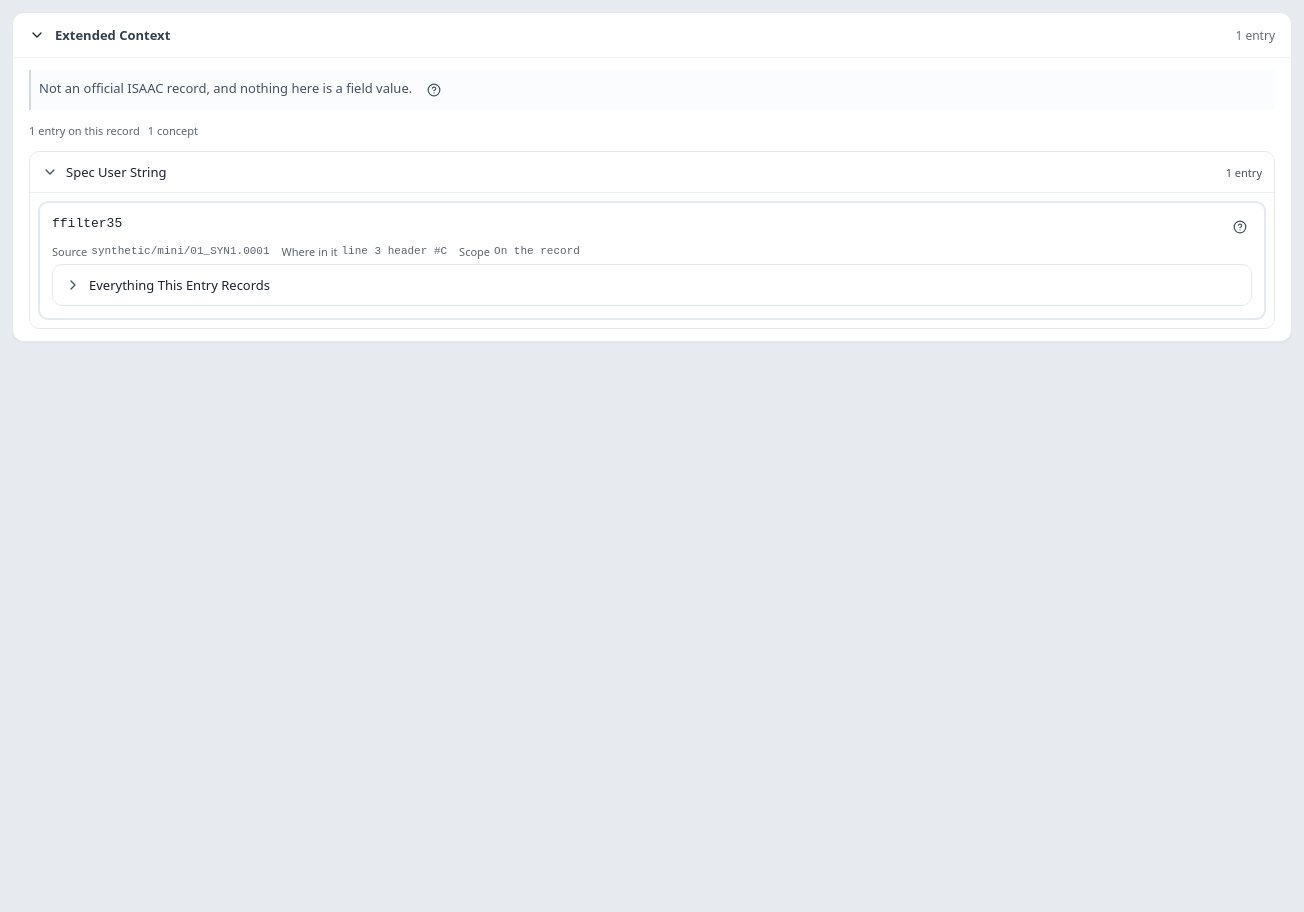
raw JSON › is behind a CLOSED shared Disclosure and is not the scientist’s first reading
Expected: the text "Spec User String" is shown, [66,163,166,181]
Click the button "Everything This Entry Records" at (180, 285), box [53,265,1251,305]
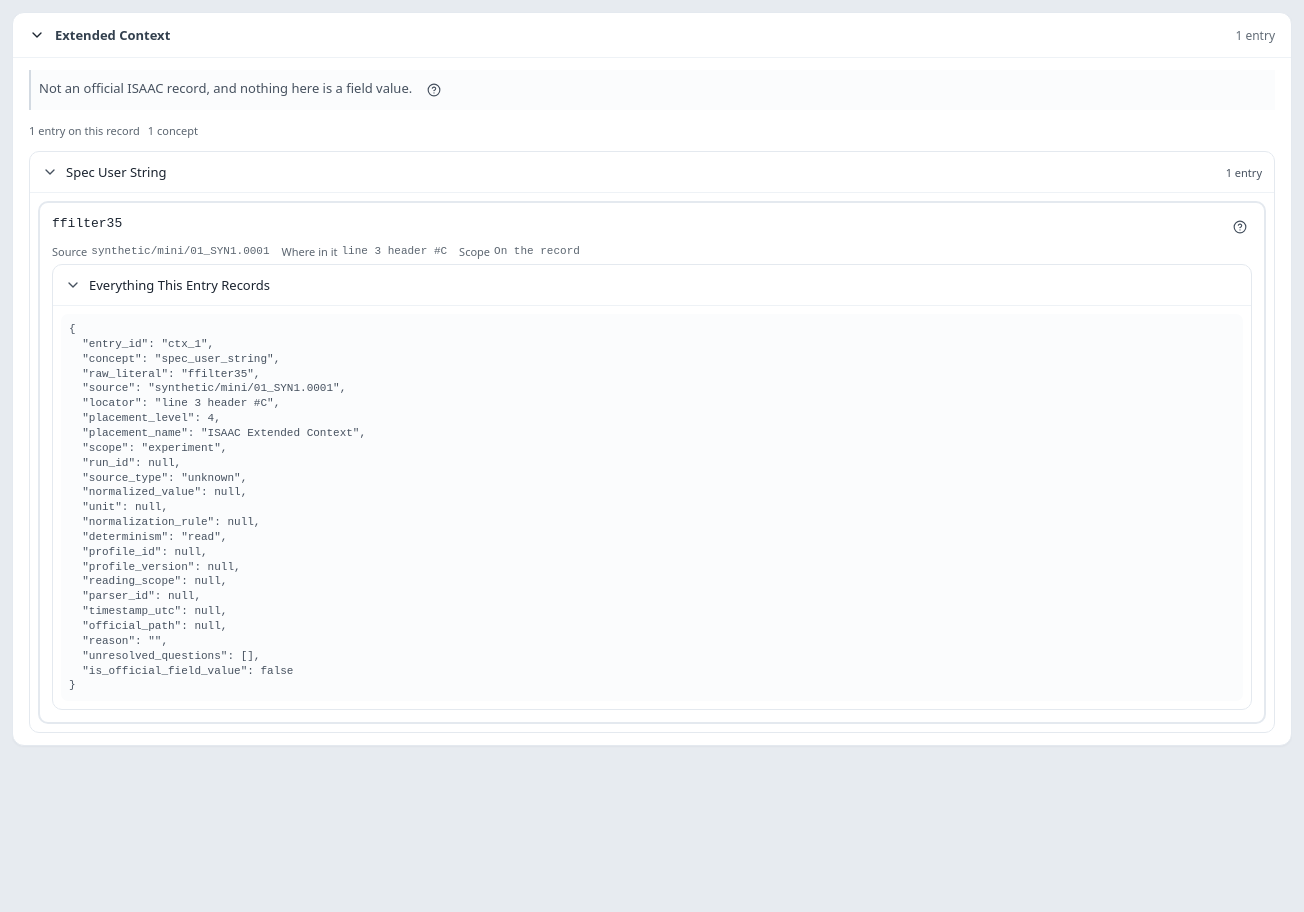
Result: the text with class "extctx-raw" is shown at [61,314,1243,701]
